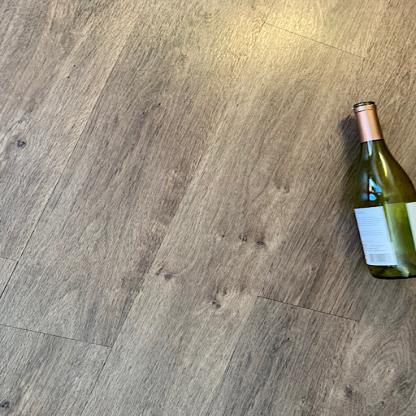trash: (348, 101, 414, 283)
